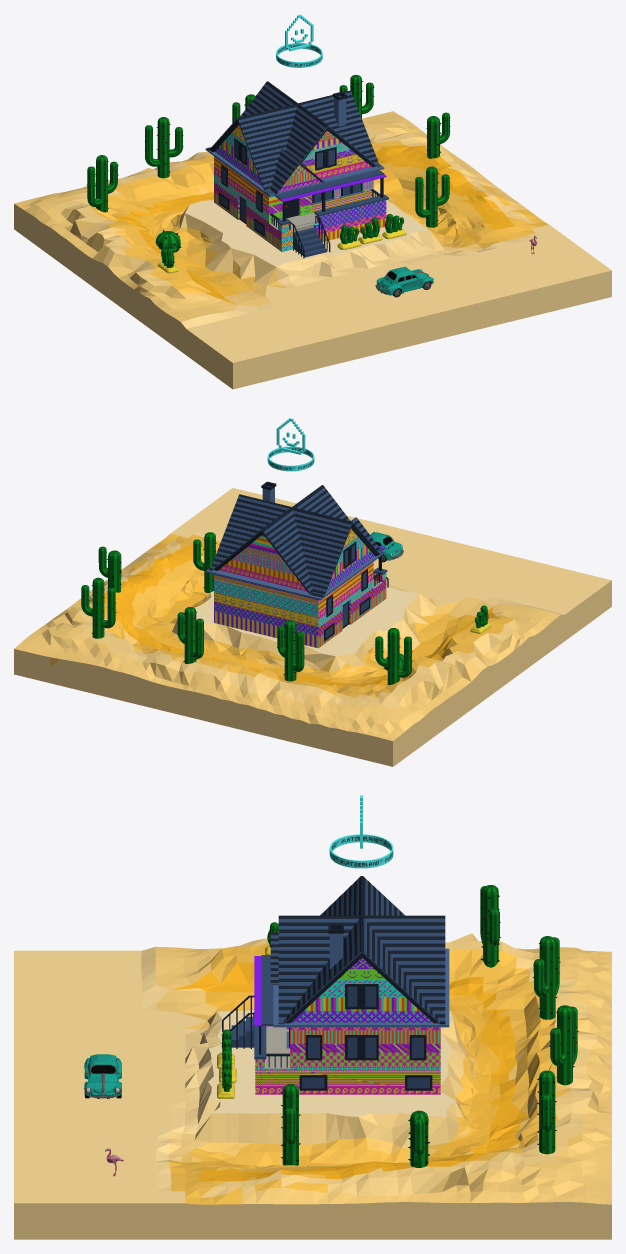
3 views of the same model, one above another, from view 1: azimuth 30°, elevation 25°; view 2: azimuth 150°, elevation 25°; view 3: azimuth 270°, elevation 25° (orthographic). The views are drawn at different scales.
Parts seen in each view (by area): view 1: Cube.001, Cube.676, Cylinder.044, Cylinder.037, Cylinder.045, VEHICLES_VOLKSWAGEN, TYPE_PREMIUM, Cylinder.038, Cylinder.042; view 2: Cube.001, Cube.676, Cylinder.042, Cylinder.045, Cylinder.044, Cylinder.043, TYPE_PREMIUM, Cylinder.037, Cylinder.038, VEHICLES_VOLKSWAGEN; view 3: Cube.001, Cube.676, Cylinder.044, Cylinder.043, VEHICLES_VOLKSWAGEN, Cylinder.045, Cylinder.042, Cylinder.037, TYPE_PREMIUM, Cylinder.038.
Part boxes in pixels (x1,y1,x2,y2): Cube.001: (14, 111, 611, 389); Cube.676: (205, 81, 388, 258); Cylinder.044: (145, 117, 183, 178); Cylinder.037: (415, 166, 449, 227); Cylinder.045: (87, 155, 118, 212); VEHICLES_VOLKSWAGEN: (375, 266, 433, 297); TYPE_PREMIUM: (276, 14, 322, 67); Cylinder.038: (426, 112, 450, 158); Cylinder.042: (339, 75, 374, 118); Cube.001: (14, 488, 611, 766); Cube.676: (206, 481, 388, 648); Cylinder.042: (81, 577, 116, 638); Cylinder.045: (374, 628, 412, 684); Cylinder.044: (277, 620, 304, 681); Cylinder.043: (177, 607, 203, 663); TYPE_PREMIUM: (267, 418, 314, 471); Cylinder.037: (193, 532, 220, 592); Cylinder.038: (98, 546, 121, 592); VEHICLES_VOLKSWAGEN: (370, 532, 403, 562); Cube.001: (14, 933, 611, 1239); Cube.676: (222, 876, 449, 1094); Cylinder.044: (533, 936, 560, 1019); Cylinder.043: (549, 1005, 578, 1085); VEHICLES_VOLKSWAGEN: (84, 1054, 121, 1099); Cylinder.045: (480, 885, 500, 967); Cylinder.042: (537, 1070, 556, 1154); Cylinder.037: (281, 1084, 300, 1165); TYPE_PREMIUM: (329, 795, 393, 868); Cylinder.038: (408, 1110, 429, 1167).
Bounding box in the file's own units: 4002 × 2445 × 4001.
32 materials, 7 textured.
